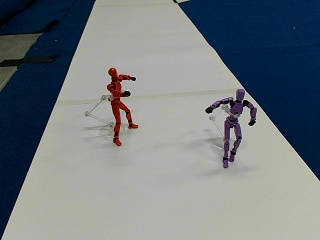pedestrian: (205, 87, 256, 164), (106, 66, 138, 143)
